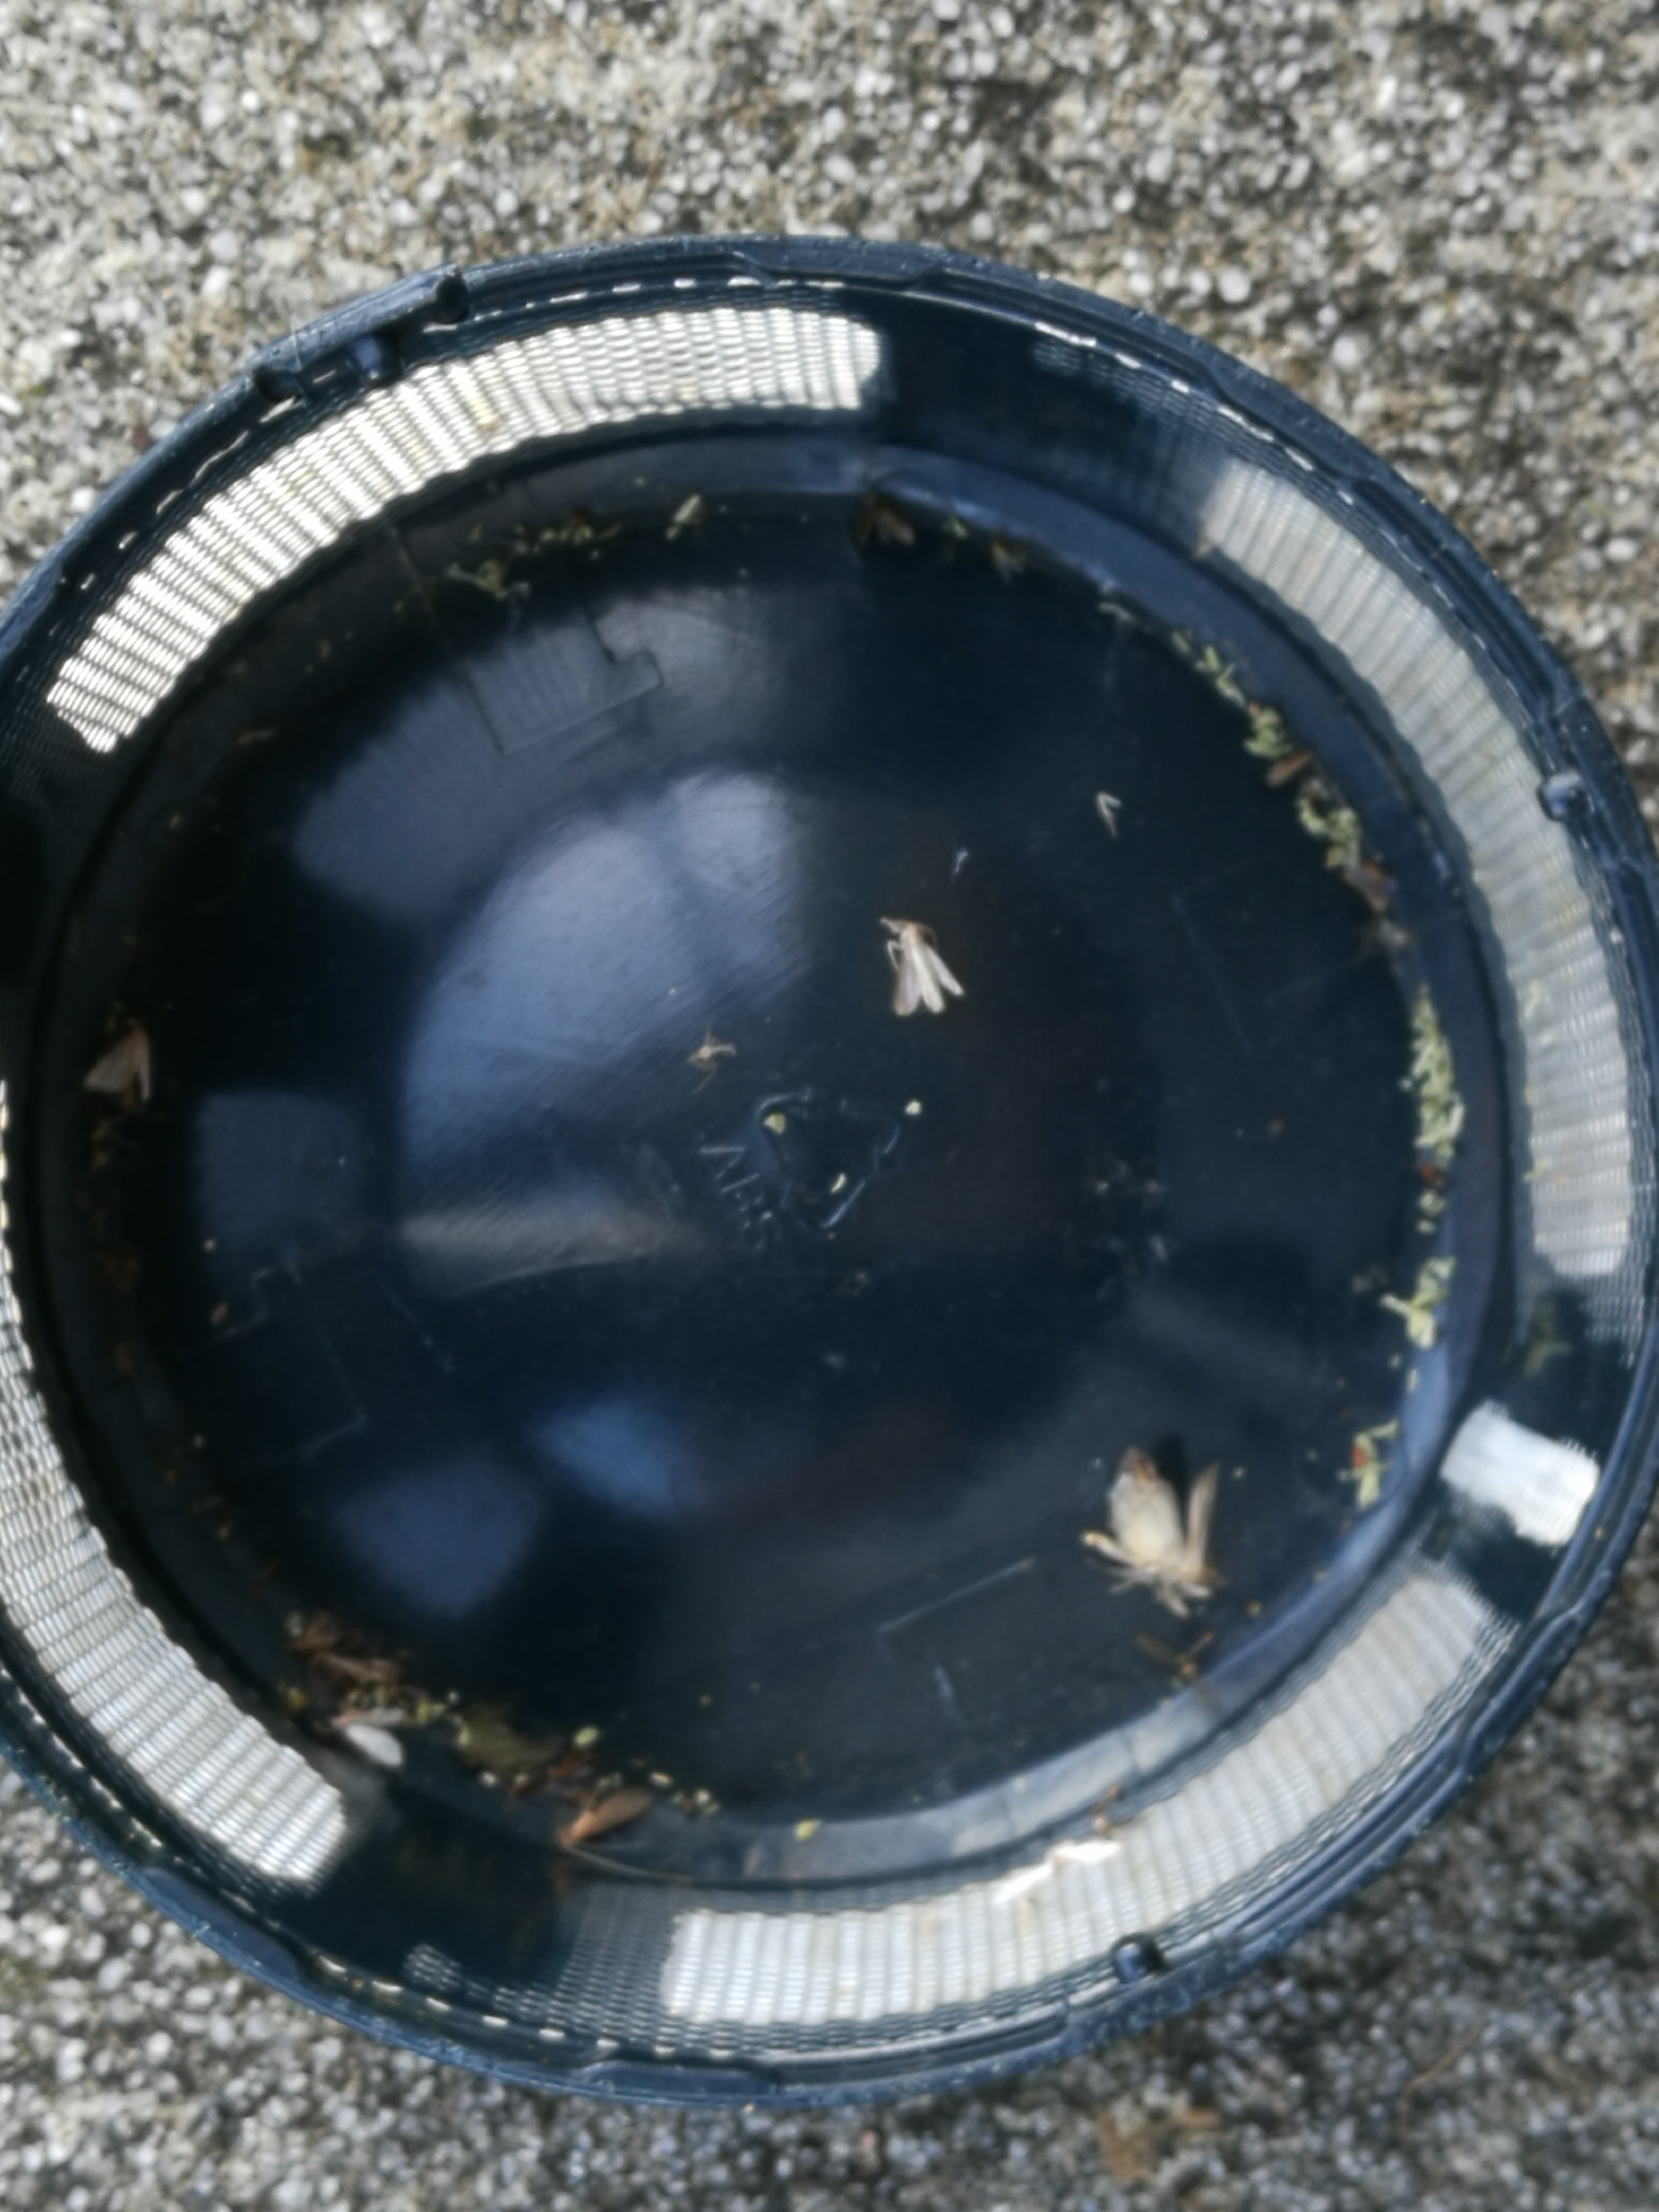mosquito: (561, 1791, 645, 1846), (322, 1649, 396, 1684), (1265, 751, 1314, 782)
moth: (1082, 1446, 1218, 1613), (887, 923, 960, 1017), (89, 1024, 150, 1104), (329, 1709, 403, 1773)
